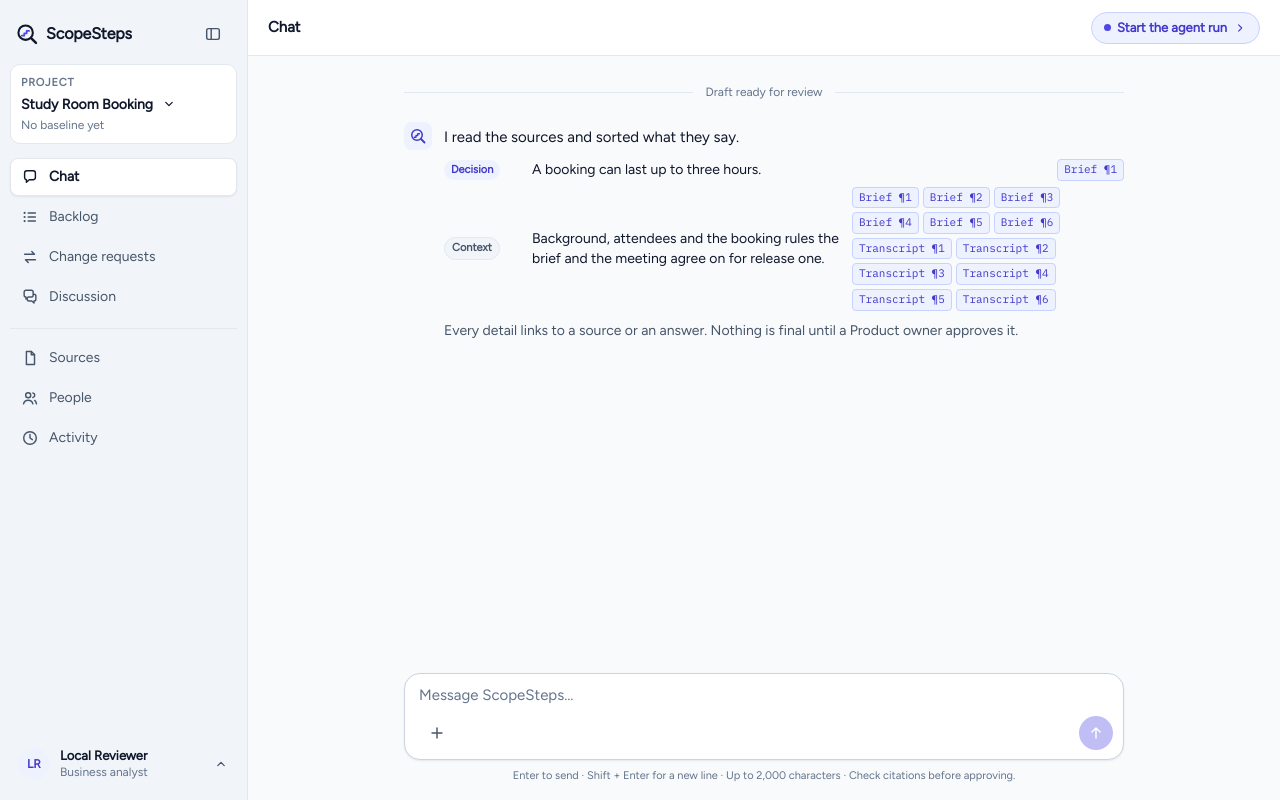
What the agent found › opens the paragraph a late citation points at
Click the button "Transcript ¶5".
click(902, 300)  # box [852,289,952,311]
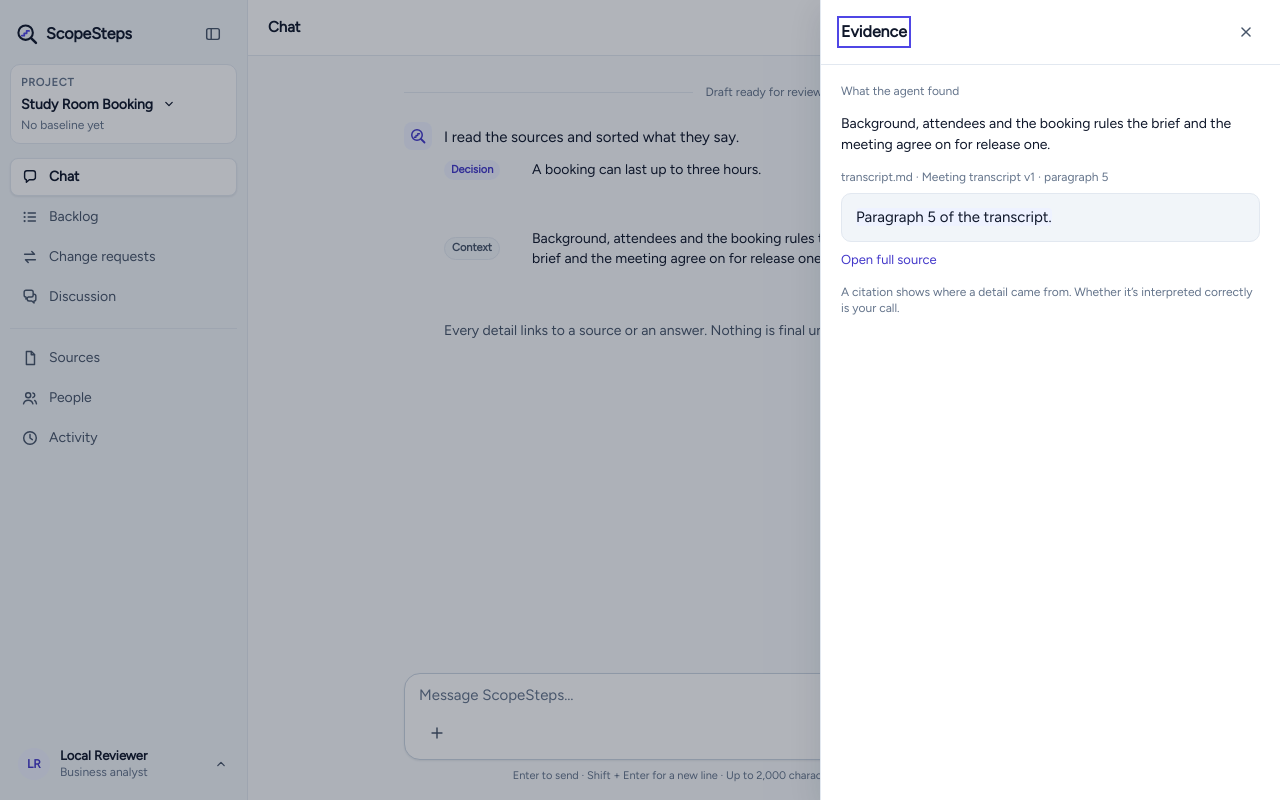
expect the text "Paragraph 5 of the transcript." is shown: met, box [856,208,1052,226]
